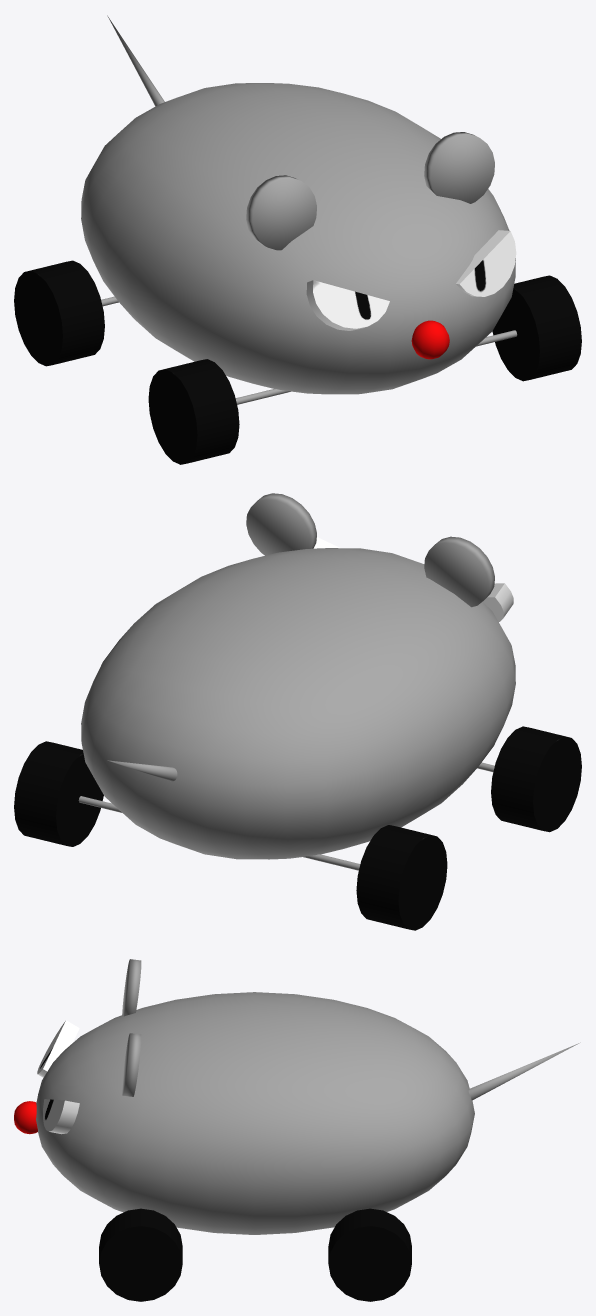
Rendered from ratcar.fbx.
The picture shows the model from 3 angles, top to bottom: view 1: azimuth 30°, elevation 25°; view 2: azimuth 150°, elevation 25°; view 3: azimuth 270°, elevation 25°; orthographic projection. The views are drawn at different scales.
Parts seen in each view (by area): view 1: ratcar; view 2: ratcar; view 3: ratcar.
Part boxes in pixels (left/top/right/bottom): ratcar: left=14, top=15, right=581, bottom=464; ratcar: left=14, top=493, right=581, bottom=930; ratcar: left=14, top=959, right=580, bottom=1301.
Size of the model in its own units: 66.96 by 43.54 by 101.
